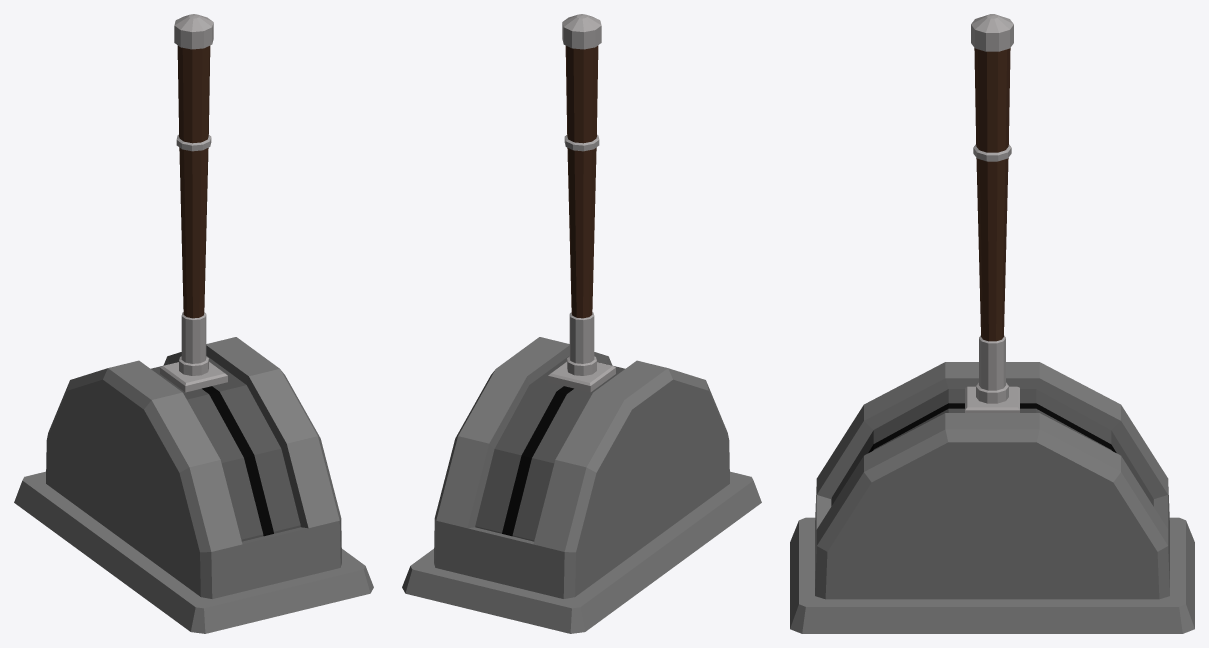
The model's file is StoneFloorLever_1.fbx.
The picture shows the model from 3 angles, left to right: view 1: azimuth 30°, elevation 25°; view 2: azimuth 150°, elevation 25°; view 3: azimuth 270°, elevation 25°; orthographic projection. The views are drawn at different scales.
Visible parts, largest first — view 1: StoneFloorLever_1_Casing, StoneFloorLever_1_Handle; view 2: StoneFloorLever_1_Casing, StoneFloorLever_1_Handle; view 3: StoneFloorLever_1_Casing, StoneFloorLever_1_Handle.
Part boxes in pixels (bbox=[...]): StoneFloorLever_1_Casing: bbox=[14, 337, 373, 633]; StoneFloorLever_1_Handle: bbox=[160, 14, 227, 392]; StoneFloorLever_1_Casing: bbox=[402, 337, 761, 633]; StoneFloorLever_1_Handle: bbox=[548, 14, 615, 392]; StoneFloorLever_1_Casing: bbox=[790, 362, 1194, 633]; StoneFloorLever_1_Handle: bbox=[965, 14, 1019, 412].
Bounding box in the file's own units: 30.23 × 83.4 × 53.71.
